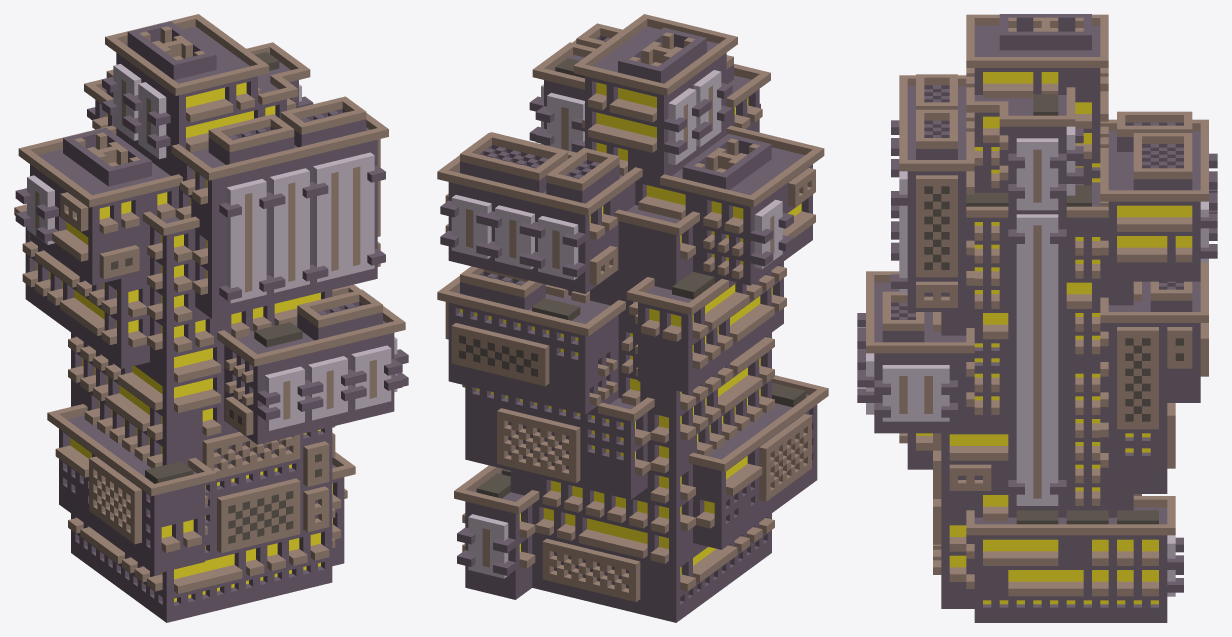
Rendered from CarmaTower_3.obj.
The picture shows the model from 3 angles, left to right: view 1: azimuth 30°, elevation 25°; view 2: azimuth 150°, elevation 25°; view 3: azimuth 270°, elevation 25°; orthographic projection.
Size of the model in its own units: 3.9 by 7 by 4.3.
Materials: 1 (1 with a texture image).
